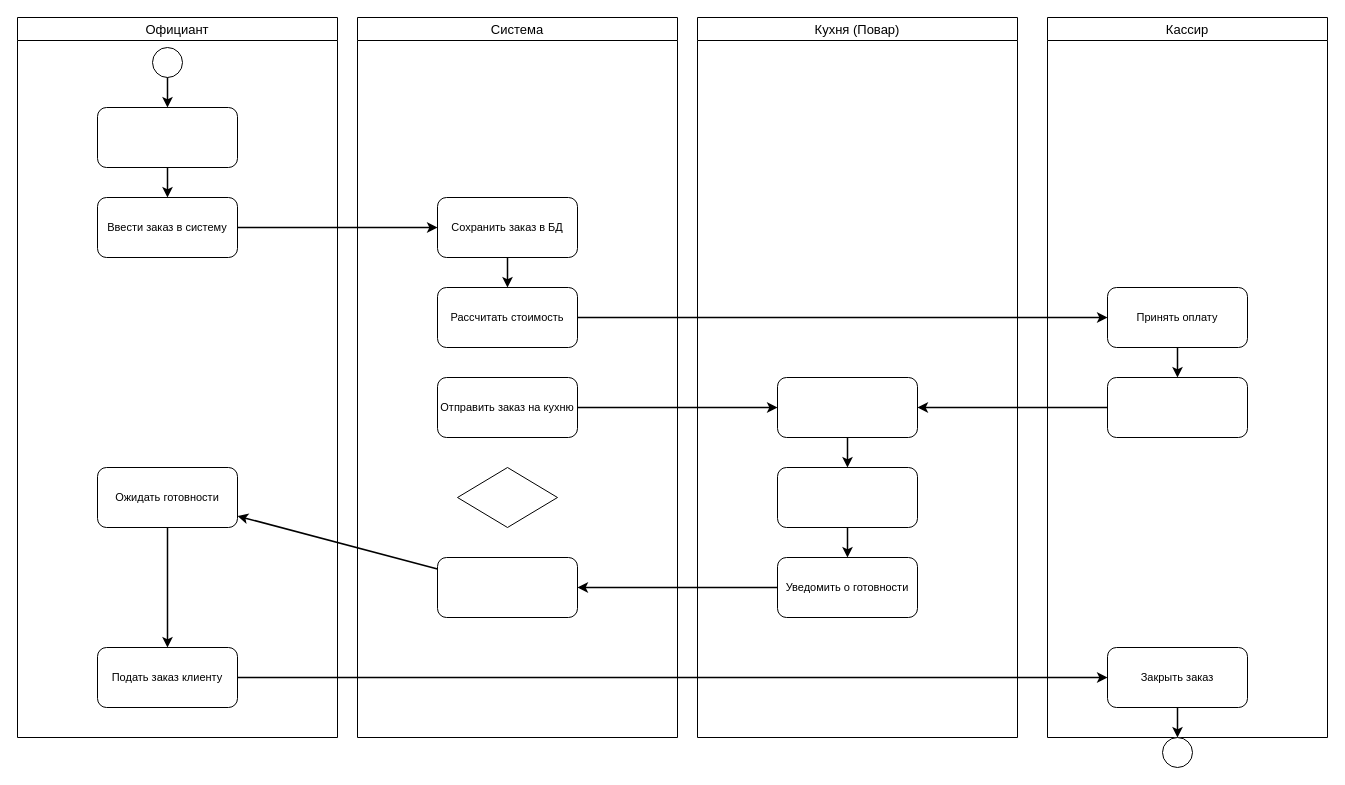
Image size: 1345x785. Some labels were removed from this diagram. Here are the shapes that lost their labels. From the top down, the centre of each, then its label:
At point 167,137: "Принять заказ от клиента".
At point 847,407: "Получить заказ".
At point 1177,407: "Сформировать чек".
At point 507,497: "Оплата сразу?".
At point 847,497: "Приготовить блюда".
At point 507,587: "Обновить статус заказа".
